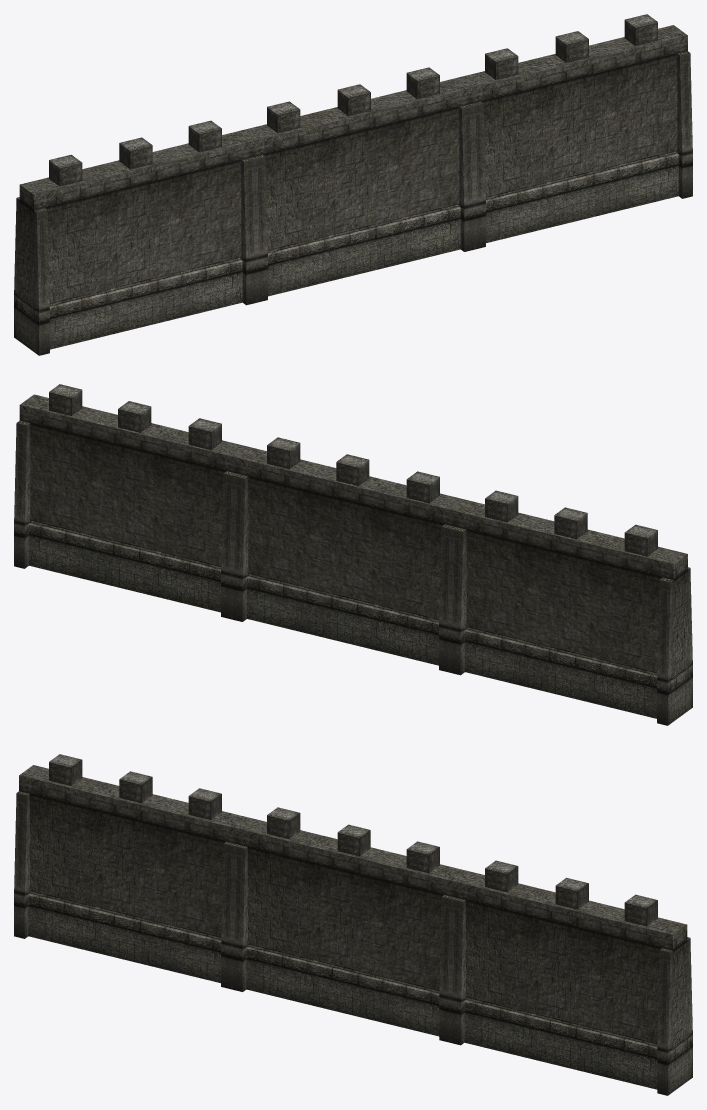
File: ep-bigdam-04.fbx
3 renders of one model, top to bottom at view 1: azimuth 30°, elevation 25°; view 2: azimuth 150°, elevation 25°; view 3: azimuth 330°, elevation 25°, orthographic.
Visible parts, largest first — view 1: ep-bigdam-04; view 2: ep-bigdam-04; view 3: ep-bigdam-04.
Boxes of the visible parts, box(x1,y1,x2,y2) form: ep-bigdam-04: box(14, 14, 692, 355); ep-bigdam-04: box(14, 384, 692, 725); ep-bigdam-04: box(14, 754, 692, 1095).
Size of the model in its own units: 30 by 7.71 by 2.
